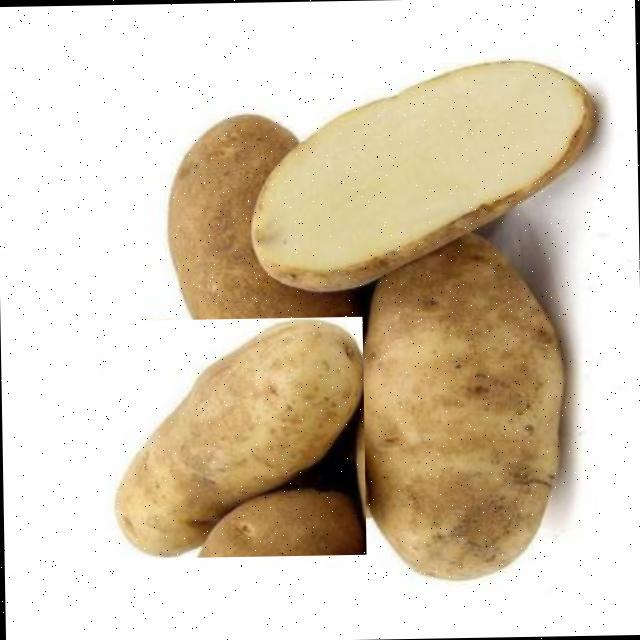Potato: (245, 56, 608, 292), (347, 222, 570, 581), (102, 315, 366, 558), (159, 102, 364, 384)
